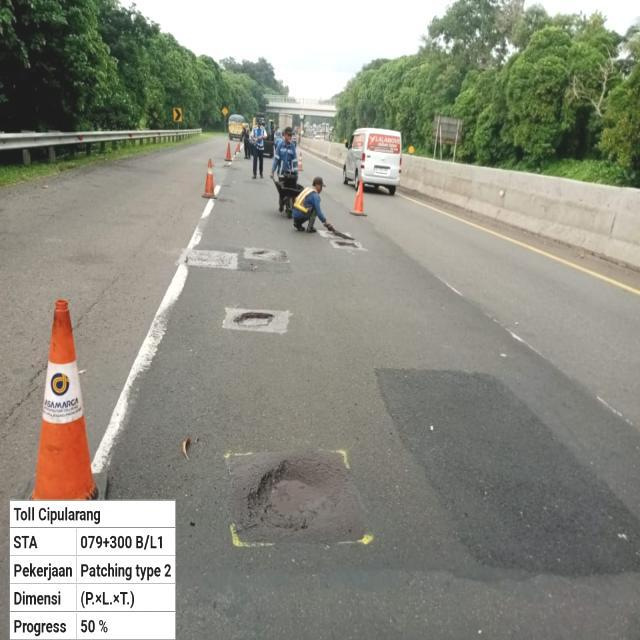Buraco: (241, 456, 352, 540), (230, 310, 276, 329), (250, 249, 289, 263), (177, 434, 195, 464), (332, 240, 361, 250)
